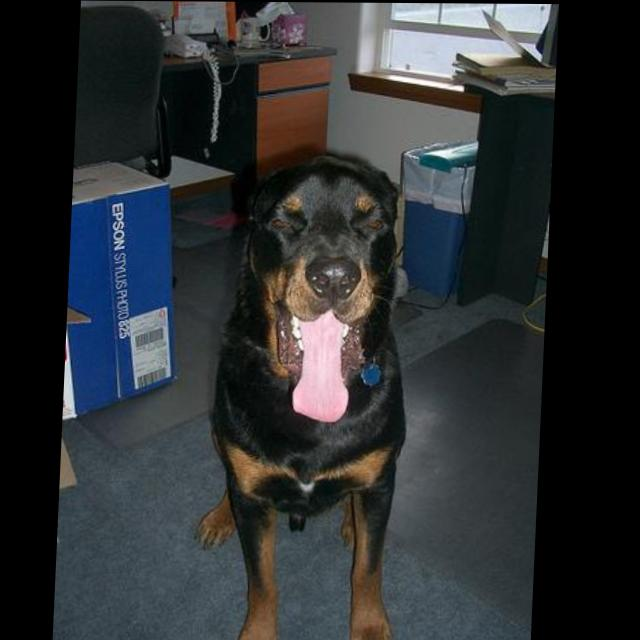rottweiler: (196, 151, 422, 640)
